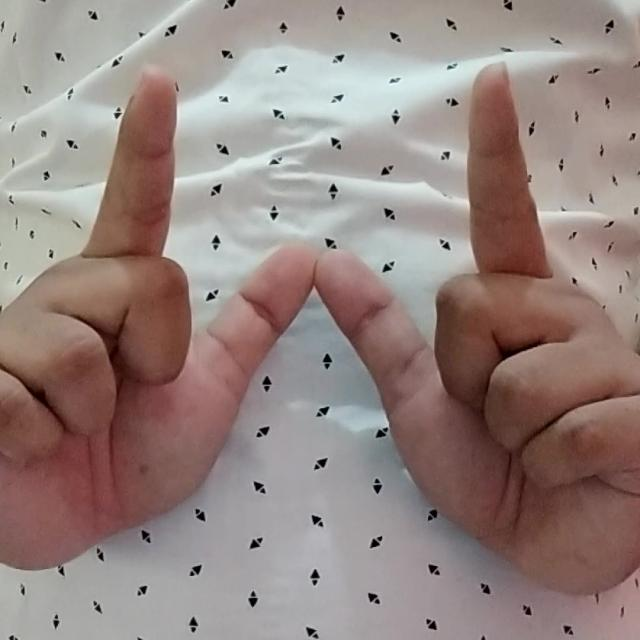W: (2, 56, 640, 623)
